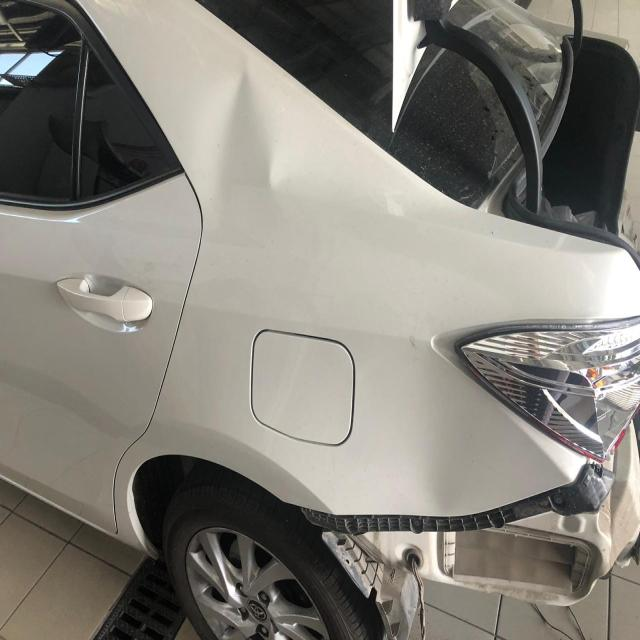Cabossage: (196, 64, 287, 212), (396, 446, 520, 523)
